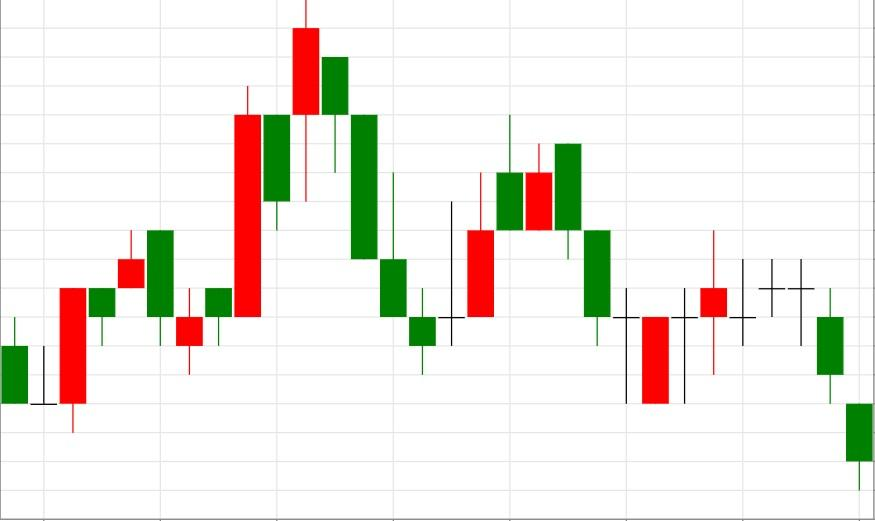bearish_engulfing_fall: (408, 114, 583, 376), (29, 229, 174, 433)
three_black_crows_fall: (175, 0, 408, 376)
